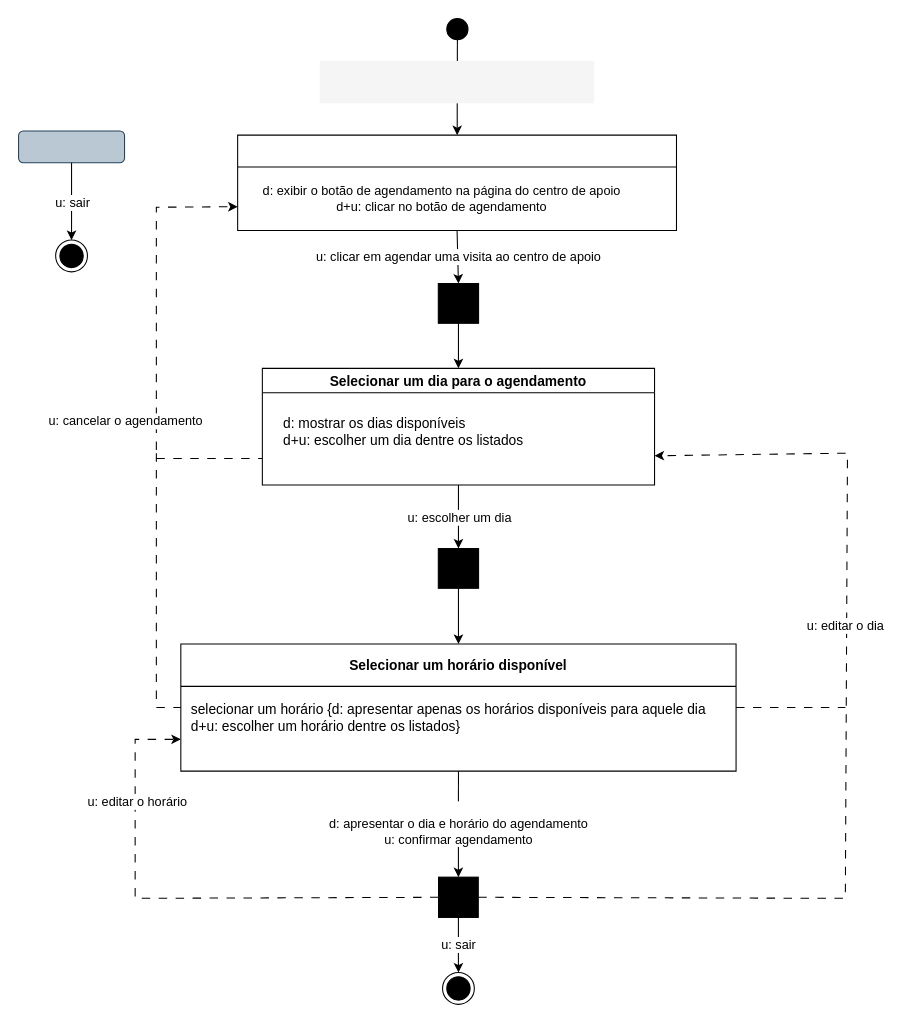
Image size: 903x1023. Some labels were removed from this diagram. The shapes that lost their labels are listed below. From the top down, each one's box as (x1, y1, x2, y2) in pixels, then its label:
(319, 60, 594, 103): precond: o usuário já está logado no sistema u: selecionar um centro de apoio
(237, 134, 676, 231): Selecionar a opção de agendamento
